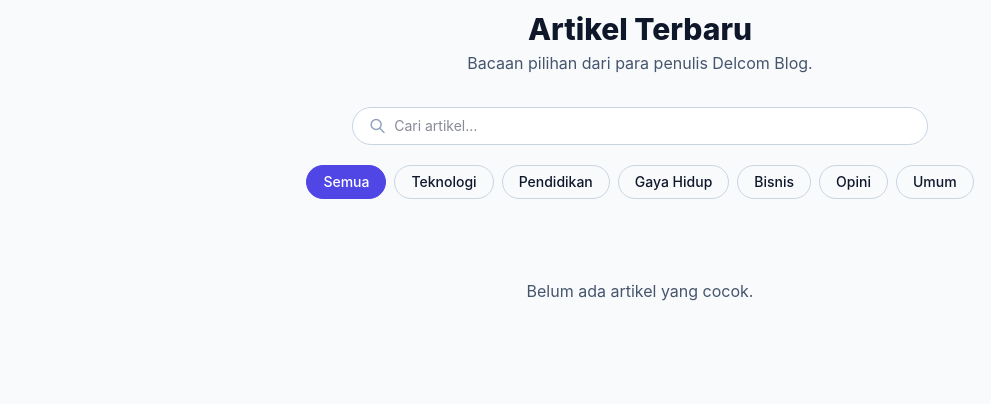
Test: PublicArticleList › keadaan kosong dan galat (galat hilang setelah berhasil)
Expected: the text "Belum ada artikel yang cocok." is shown, [526,281,753,301]
What coordinates should you click on to do the following:
click the button "Opini"
I would click on:
 (854, 182)
Its box is [819,165,888,199].
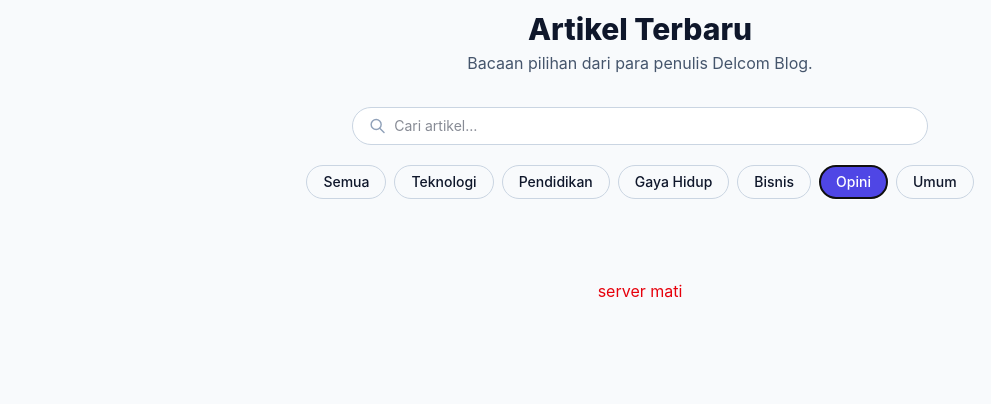
Result: the message reads "server mati" at [598,281,682,301]
What coordinates should you click on to do the following:
click the button "Umum"
I would click on:
 (935, 182)
Its box is [896,165,974,199].
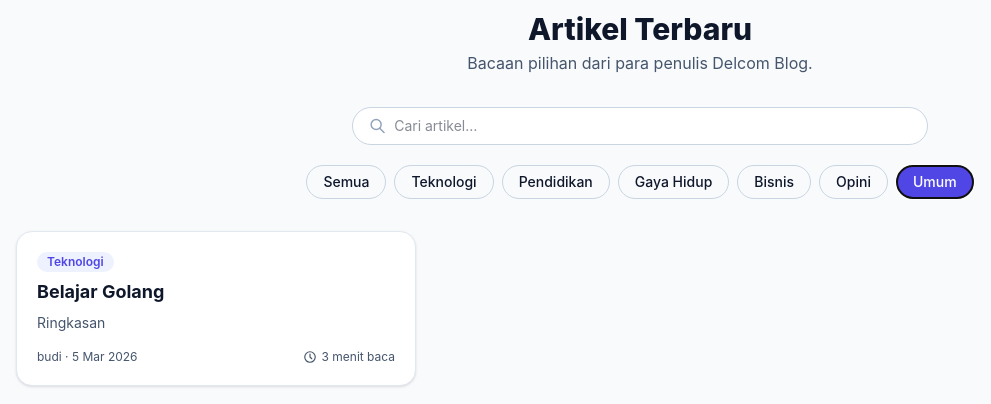
Result: the link "Belajar Golang" is shown at [37,281,164,302]
Result: the message "server mati" is gone
